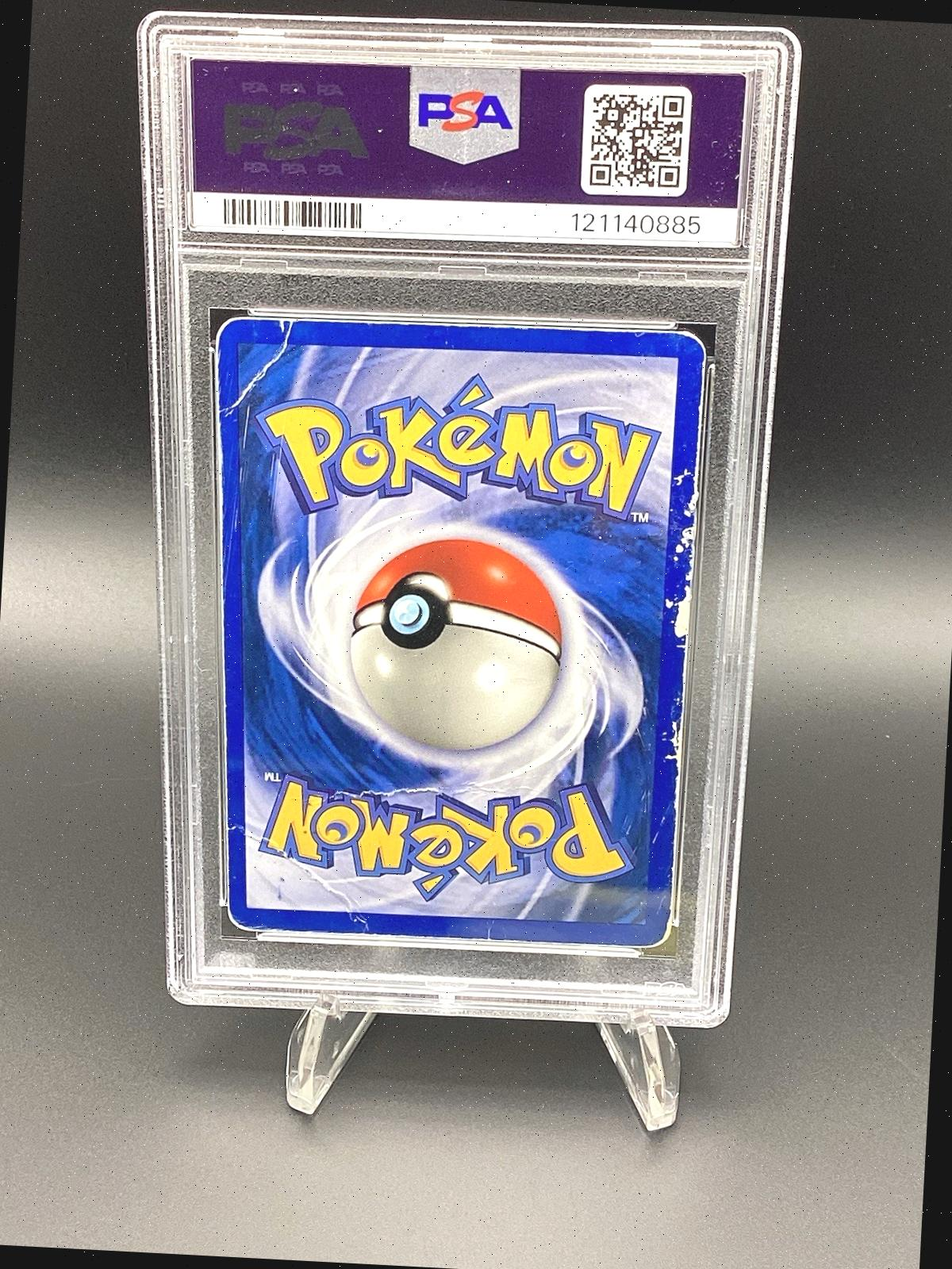card-2UtV: (216, 316, 707, 949)
